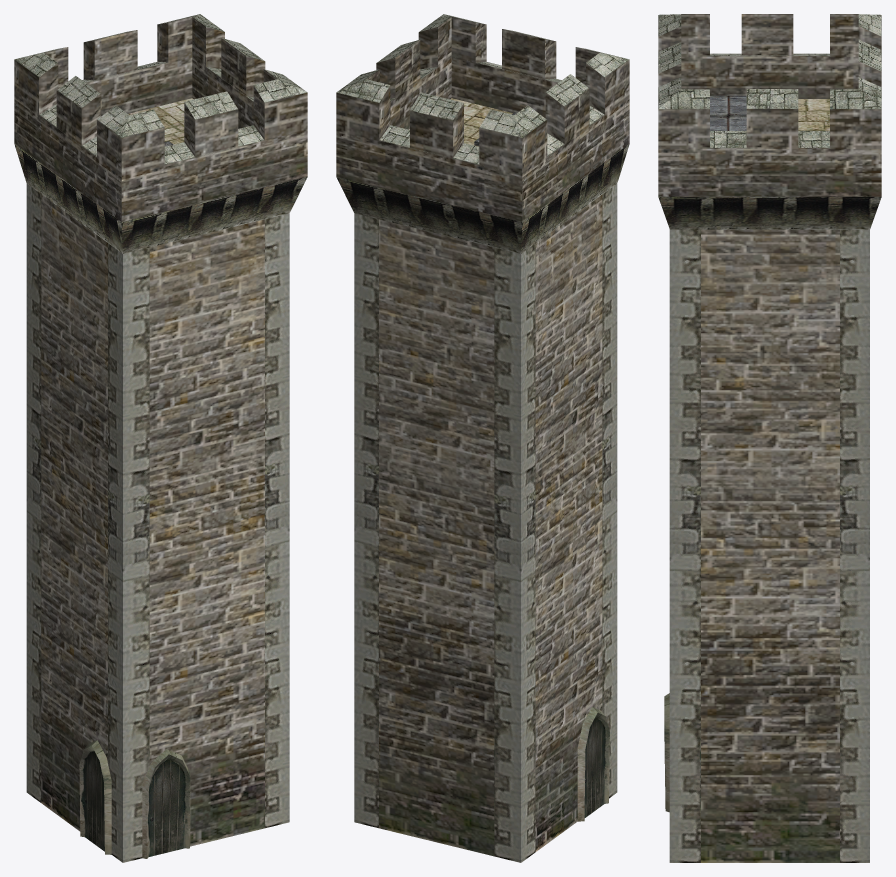
File: building_tower_lookout.glb
3 views of the same model, side by side, from view 1: azimuth 30°, elevation 25°; view 2: azimuth 150°, elevation 25°; view 3: azimuth 270°, elevation 25° (orthographic). The views are drawn at different scales.
Parts seen in each view (by area): view 1: building_tower_lookout; view 2: building_tower_lookout; view 3: building_tower_lookout.
Part boxes in pixels (x1,y1,x2,y2): building_tower_lookout: (14, 14, 307, 862); building_tower_lookout: (336, 14, 629, 862); building_tower_lookout: (658, 14, 881, 862).
Size of the model in its own units: 4.58 by 17.43 by 4.58.
4 materials, 4 textured.
